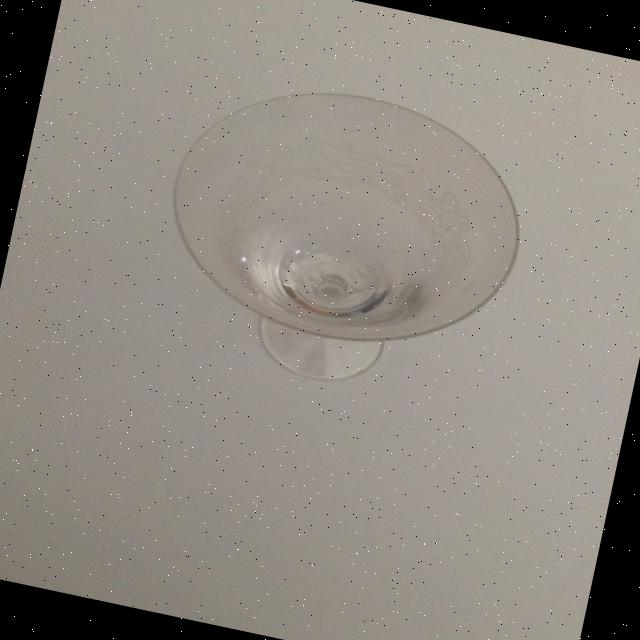glass: (138, 60, 542, 415)
